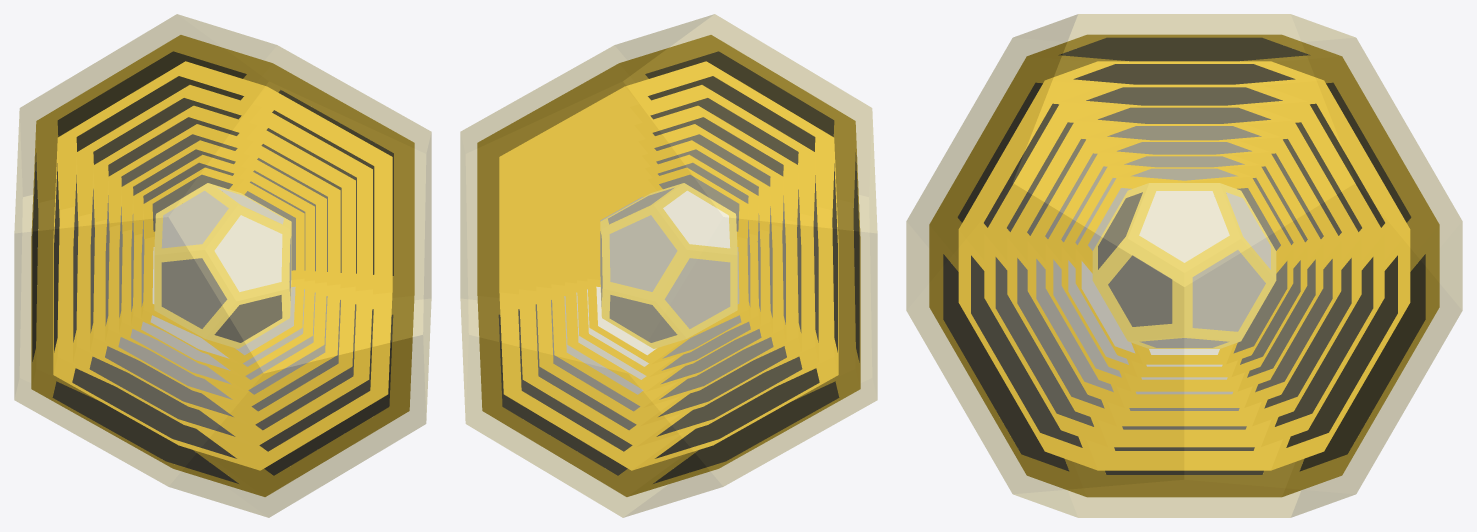
The model's file is engram-transformed.glb.
3 views of the same model, side by side, from view 1: azimuth 30°, elevation 25°; view 2: azimuth 150°, elevation 25°; view 3: azimuth 270°, elevation 25° (orthographic). The views are drawn at different scales.
Visible parts, largest first — view 1: Casing, Ring 8, Ring 7, Ring 6, Center, Ring 5, Ring 4, Ring 3, Ring 1, Ring 2; view 2: Casing, Ring 8, Ring 7, Ring 6, Center, Ring 5, Ring 4, Ring 3, Ring 1, Ring 2; view 3: Casing, Ring 8, Ring 7, Ring 6, Center, Ring 5, Ring 4, Ring 3, Ring 1, Ring 2.
Part boxes in pixels (<box>): Casing: <box>14,14,431,517</box>; Ring 8: <box>31,35,414,496</box>; Ring 7: <box>53,61,392,470</box>; Ring 6: <box>73,85,372,446</box>; Center: <box>154,183,291,348</box>; Ring 5: <box>90,105,355,426</box>; Ring 4: <box>105,124,340,407</box>; Ring 3: <box>119,140,326,391</box>; Ring 1: <box>141,167,304,364</box>; Ring 2: <box>131,154,314,377</box>; Casing: <box>460,14,877,517</box>; Ring 8: <box>477,35,860,496</box>; Ring 7: <box>499,61,838,470</box>; Ring 6: <box>519,85,818,446</box>; Center: <box>600,183,737,348</box>; Ring 5: <box>536,105,801,426</box>; Ring 4: <box>551,124,786,407</box>; Ring 3: <box>565,140,772,391</box>; Ring 1: <box>587,167,750,364</box>; Ring 2: <box>577,154,760,377</box>; Casing: <box>906,14,1462,517</box>; Ring 8: <box>929,34,1439,497</box>; Ring 7: <box>958,61,1410,470</box>; Ring 6: <box>984,84,1384,447</box>; Center: <box>1092,183,1276,348</box>; Ring 5: <box>1007,105,1361,426</box>; Ring 4: <box>1027,124,1341,407</box>; Ring 3: <box>1045,140,1323,391</box>; Ring 1: <box>1075,167,1293,364</box>; Ring 2: <box>1061,154,1307,377</box>.
Bounding box in the file's own units: 2.83 × 2.83 × 2.83.
